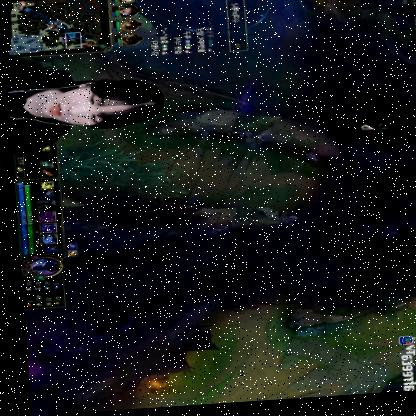streamer: (3, 47, 163, 153)
